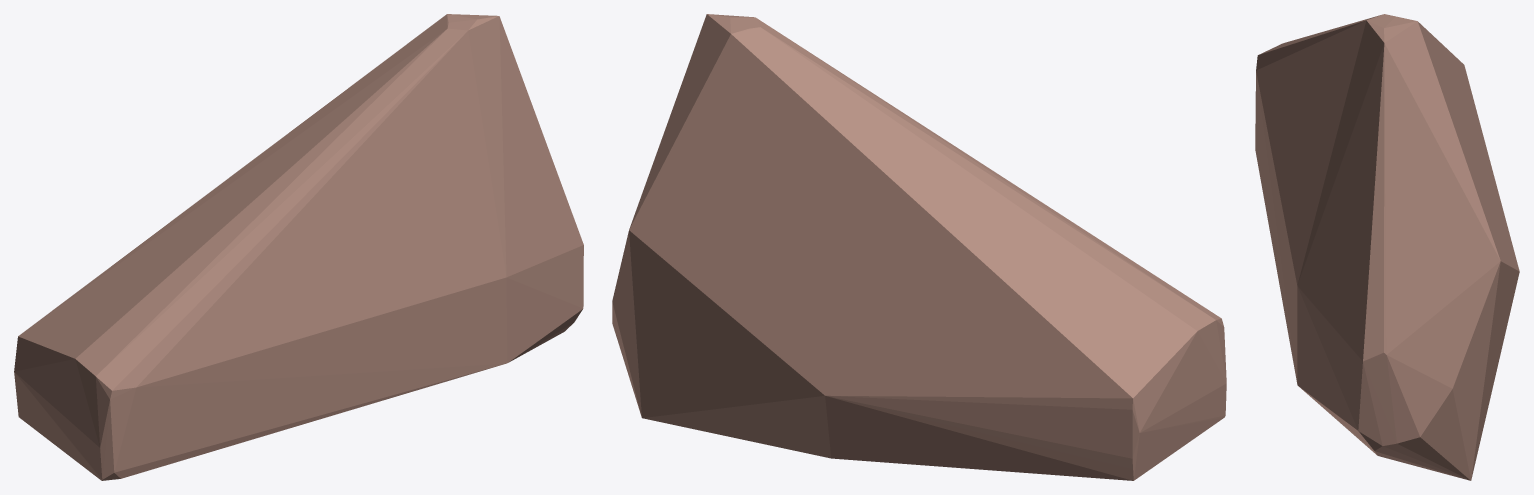
The model's file is powerTool_grinder_a01.glb.
The picture shows the model from 3 angles, left to right: view 1: azimuth 30°, elevation 25°; view 2: azimuth 150°, elevation 25°; view 3: azimuth 270°, elevation 25°; orthographic projection. The views are drawn at different scales.
Visible parts, largest first — view 1: geometry_0; view 2: geometry_0; view 3: geometry_0.
Part boxes in pixels (left/top/right/bottom): geometry_0: left=14, top=14, right=583, bottom=480; geometry_0: left=612, top=14, right=1226, bottom=480; geometry_0: left=1255, top=14, right=1519, bottom=480.
Bounding box in the file's own units: 0.4798 × 0.3222 × 0.1812.
